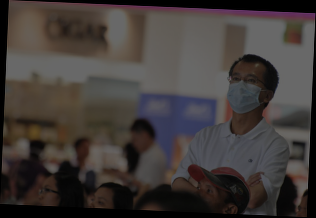with_mask: (227, 71, 267, 114)
without_mask: (37, 183, 62, 206), (89, 194, 113, 209)
